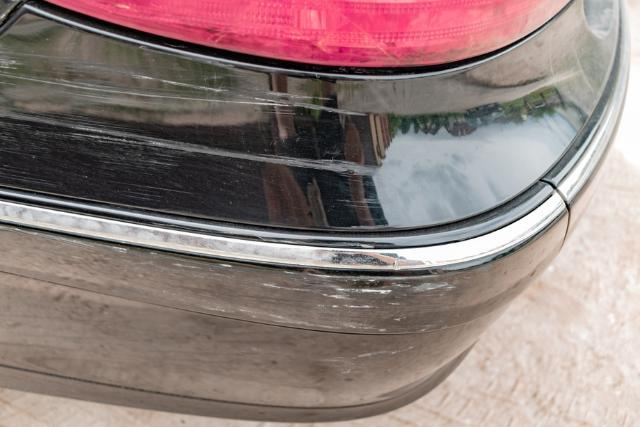Bumper: (12, 29, 466, 382)
